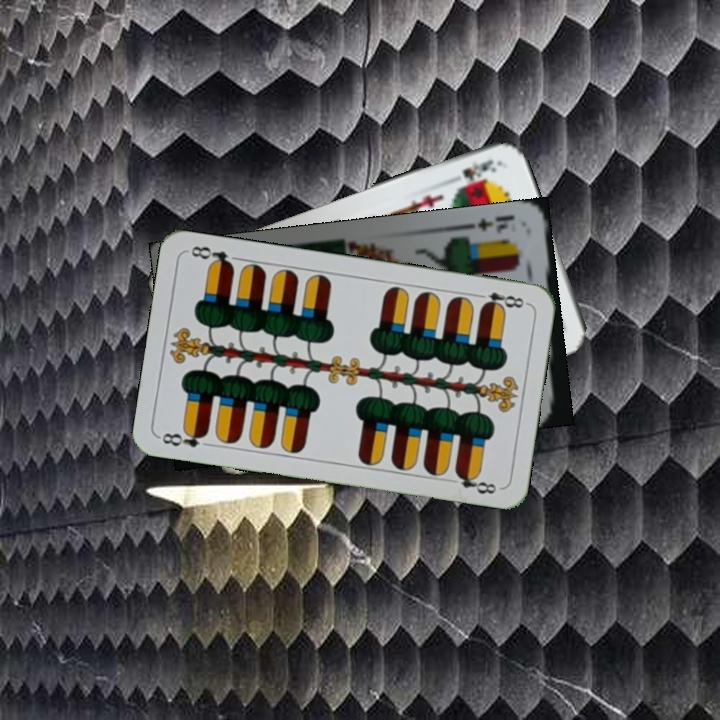E8: (471, 288, 530, 313), (156, 425, 211, 450)
EK: (464, 210, 517, 236)
SK: (458, 155, 499, 184)
